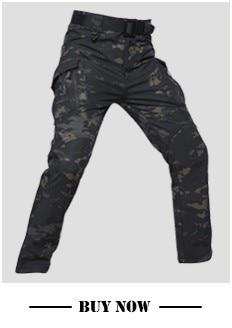pants: (17, 9, 213, 272)
